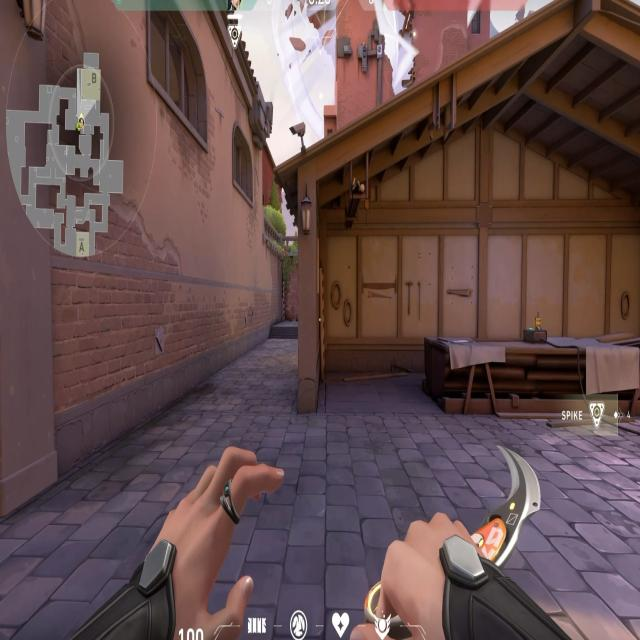B_Garage_Left: (299, 174, 479, 441)
Throwables: (143, 0, 212, 157), (230, 114, 257, 208)
